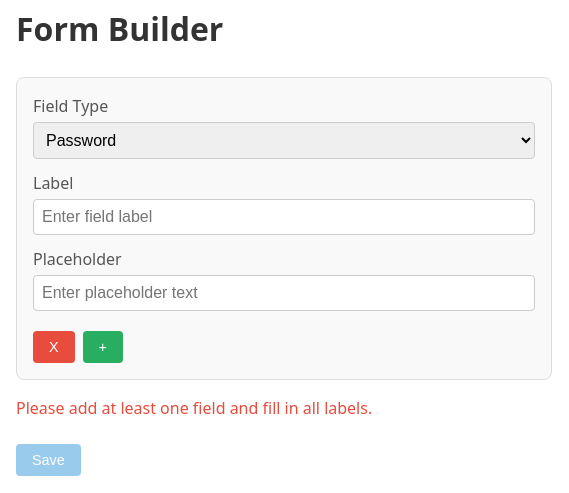
Form Builder › should switch to Generated Form view after saving
The width and height of the screenshot is (569, 493).
Type "Username" into the field with placeholder "Enter field label".
click(284, 217); type("Username")  # box [33,199,535,235]
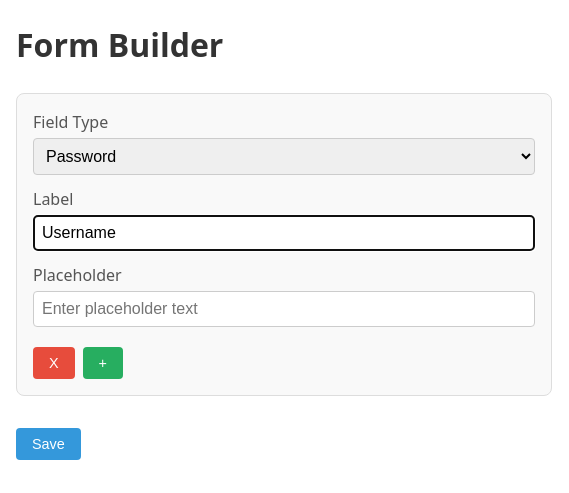
Click the button "Save".
click(49, 444)  # box [16,428,81,460]
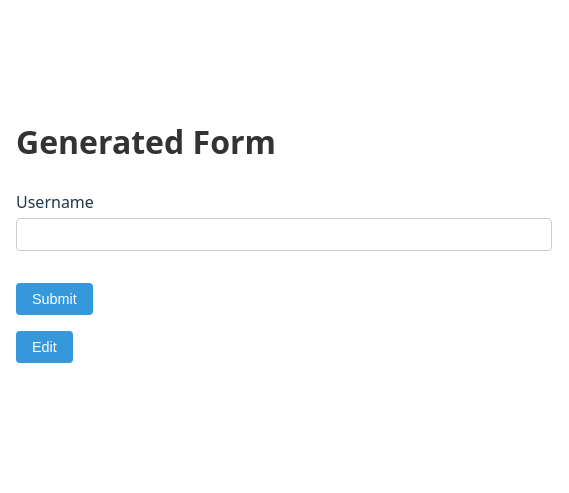
Expected: the heading "Generated Form" is shown, [16,120,276,162]
